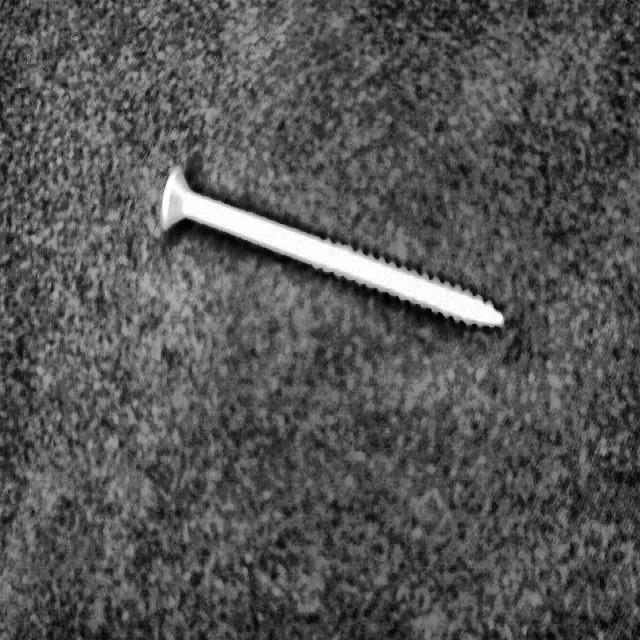Wood screw: (160, 164, 504, 329)
